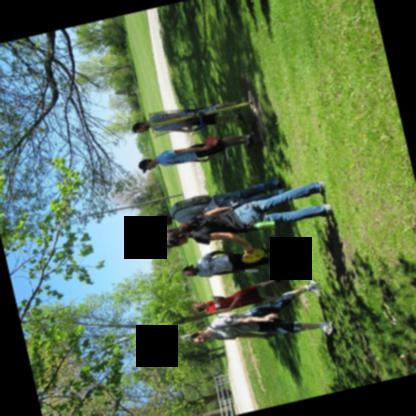backpack: (176, 195, 212, 210)
